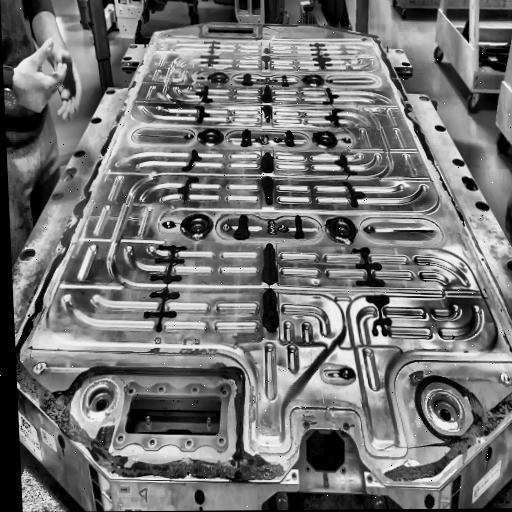b_casing: (12, 19, 512, 488)
